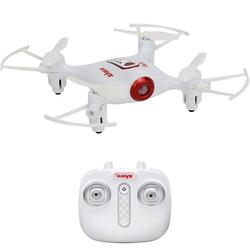drone: (1, 23, 250, 136)
